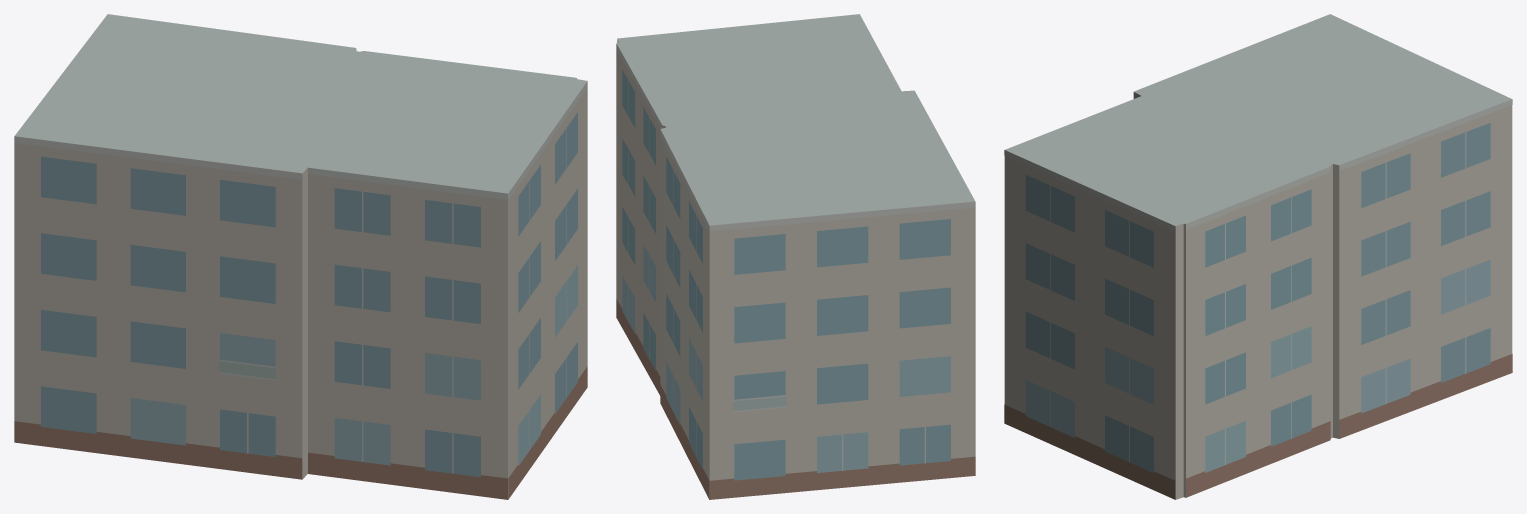
Rendered from survey-upis-32964954.glb.
3 views of the same model, side by side, from view 1: azimuth 30°, elevation 25°; view 2: azimuth 150°, elevation 25°; view 3: azimuth 270°, elevation 25° (orthographic). The views are drawn at different scales.
Visible parts, largest first — view 1: survey-upis-32964954.tmp; view 2: survey-upis-32964954.tmp; view 3: survey-upis-32964954.tmp.
Boxes of the visible parts, bbox=[...] form: survey-upis-32964954.tmp: bbox=[14, 14, 587, 499]; survey-upis-32964954.tmp: bbox=[616, 14, 975, 499]; survey-upis-32964954.tmp: bbox=[1004, 14, 1512, 499].
Bounding box in the file's own units: 19.13 × 11.5 × 19.35.
